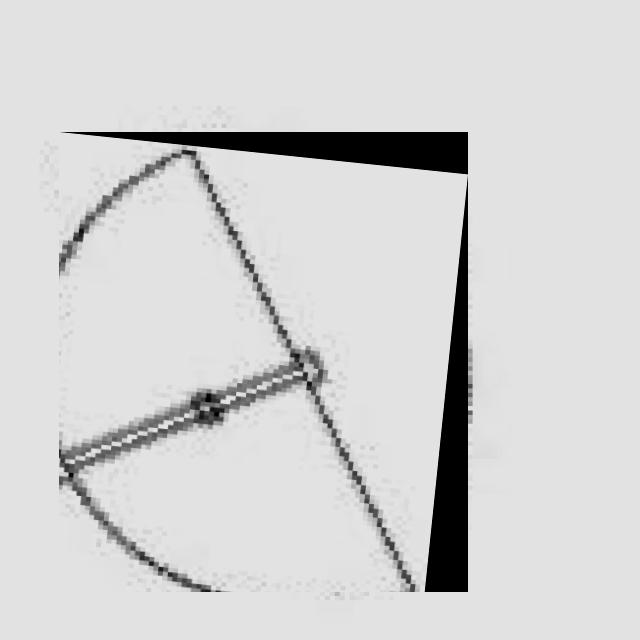door: (59, 132, 468, 592)
